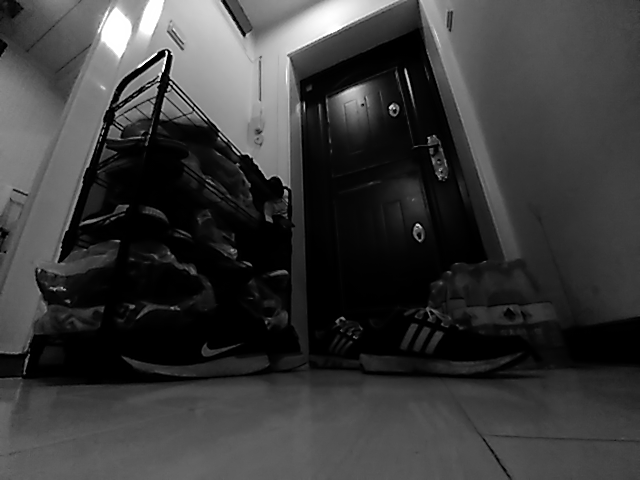shoe: (360, 304, 526, 377), (115, 311, 271, 378), (310, 315, 362, 370)
